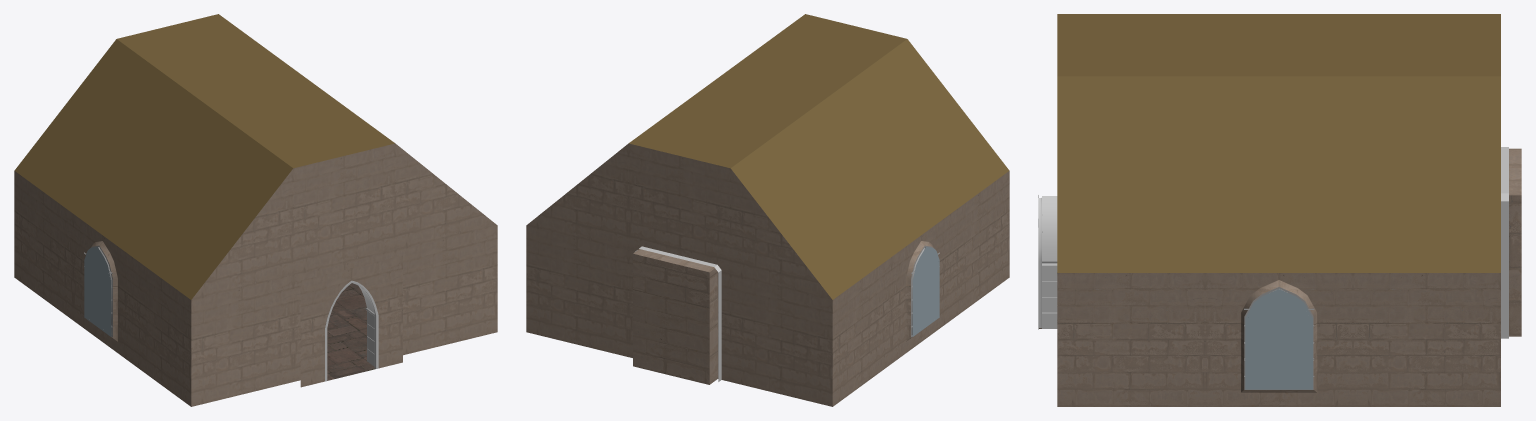
Rendered from StartingRoom.fbx.
3 renders of one model, left to right at view 1: azimuth 30°, elevation 25°; view 2: azimuth 150°, elevation 25°; view 3: azimuth 270°, elevation 25°, orthographic. The views are drawn at different scales.
Visible parts, largest first — view 1: pasted__pasted__pasted__Wall1 (×3), pasted__Wall1 (×2), pasted__pasted__pasted__pasted__Wall1, pasted__pasted__pasted__pasted__pasted__Wall1, pasted__pasted__Wall1 (×2), Wall1, polySurface1, pasted__pasted__Floor (×2), pasted__Floor (×2), pasted__pasted__pasted__Floor, pasted__pPlane7, pasted__pasted__pPlane6 (+4 smaller); view 2: pasted__pasted__pasted__Wall1 (×3), pasted__pasted__Wall1 (×3), pasted__pasted__pasted__pasted__Floor, pasted__pasted__pasted__pasted__Wall1, pasted__pasted__pasted__pasted__pasted__Wall1, pasted__Wall1, pasted__pasted__pasted__Floor, pasted__pasted__Floor, pasted__Floor, pasted__pPlane7, pasted__pasted__pPlane6, group137_pasted__pCube367; view 3: pasted__pasted__Wall1 (×2), pasted__pasted__pasted__Wall1, pasted__pasted__pasted__pasted__Wall1, pasted__Wall1, pPlane7, pasted__Floor, pasted__pasted__Floor, pasted__pasted__pasted__Floor, pasted__pPlane6, pasted__pasted__pasted__pasted__Floor, pasted__pasted__pCube3, group137_pasted__pCube367 (+2 smaller).
Part boxes in pixels (x1,y1,x2,y2): pasted__pasted__pasted__Wall1 (×3): [14, 39, 395, 320]; pasted__Wall1 (×2): [191, 143, 497, 406]; pasted__pasted__pasted__pasted__Wall1: [73, 82, 234, 256]; pasted__pasted__pasted__pasted__pasted__Wall1: [132, 125, 292, 299]; pasted__pasted__Wall1 (×2): [132, 169, 293, 406]; Wall1: [395, 225, 497, 355]; polySurface1: [300, 255, 402, 387]; pasted__pasted__Floor (×2): [176, 57, 366, 313]; pasted__Floor (×2): [234, 100, 394, 335]; pasted__pasted__pasted__Floor: [117, 14, 277, 81]; pasted__pPlane7: [73, 214, 132, 363]; pasted__pasted__pPlane6: [84, 247, 111, 336]; pasted__pasted__pasted__Wall1 (×3): [526, 125, 891, 406]; pasted__pasted__Wall1 (×3): [526, 169, 1009, 356]; pasted__pasted__pasted__pasted__Floor: [628, 143, 730, 384]; pasted__pasted__pasted__pasted__Wall1: [789, 82, 950, 256]; pasted__pasted__pasted__pasted__pasted__Wall1: [849, 39, 1009, 213]; pasted__Wall1: [730, 275, 832, 406]; pasted__pasted__pasted__Floor: [629, 100, 789, 168]; pasted__pasted__Floor: [688, 57, 847, 124]; pasted__Floor: [746, 14, 906, 81]; pasted__pPlane7: [891, 214, 950, 363]; pasted__pasted__pPlane6: [912, 247, 939, 336]; group137_pasted__pCube367: [635, 246, 721, 381]; pasted__pasted__Wall1 (×2): [1057, 76, 1500, 406]; pasted__pasted__pasted__Wall1: [1205, 76, 1352, 272]; pasted__pasted__pasted__pasted__Wall1: [1353, 76, 1500, 272]; pasted__Wall1: [1057, 273, 1204, 406]; pPlane7: [1205, 273, 1352, 406]; pasted__Floor: [1057, 14, 1204, 76]; pasted__pasted__Floor: [1205, 14, 1352, 76]; pasted__pasted__pasted__Floor: [1353, 14, 1500, 76]; pasted__pPlane6: [1245, 289, 1312, 389]; pasted__pasted__pasted__pasted__Floor: [1509, 148, 1521, 336]; pasted__pasted__pCube3: [1042, 196, 1057, 328]; group137_pasted__pCube367: [1501, 147, 1508, 338].
Bounding box in the file's own units: 1241 × 800 × 1308.
